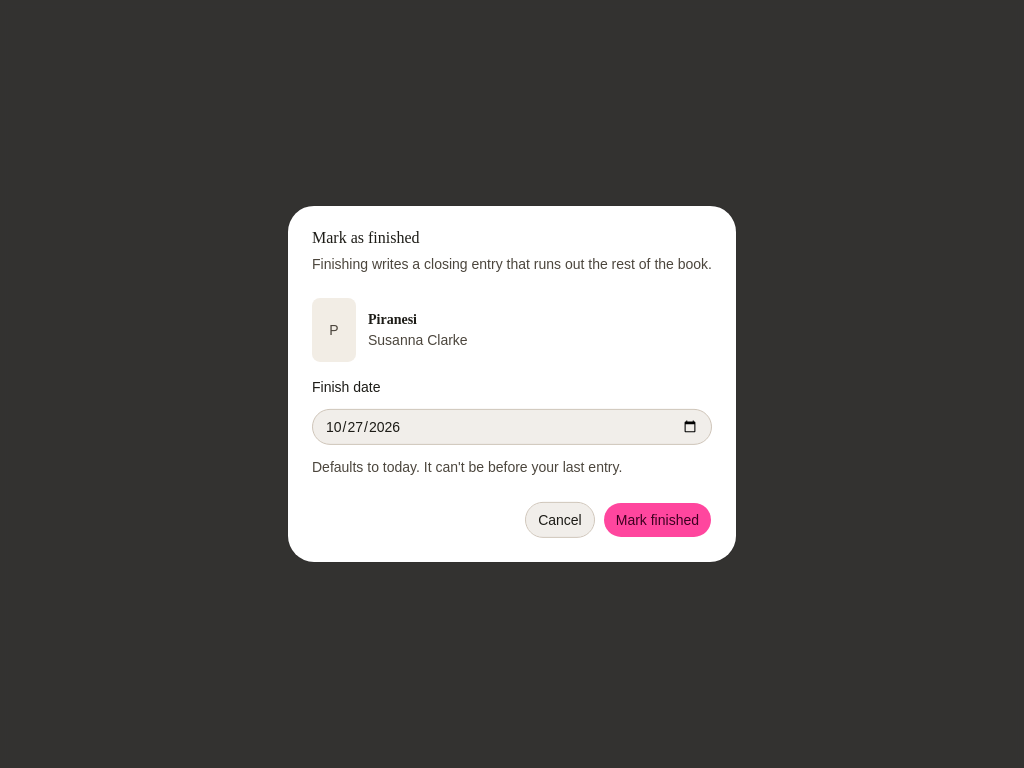
Test: FinishReadSheet › will not finish a date it has no answer for
The width and height of the screenshot is (1024, 768).
Clear the date field labelled "Finish date": (512, 427) [312,409,712,445]
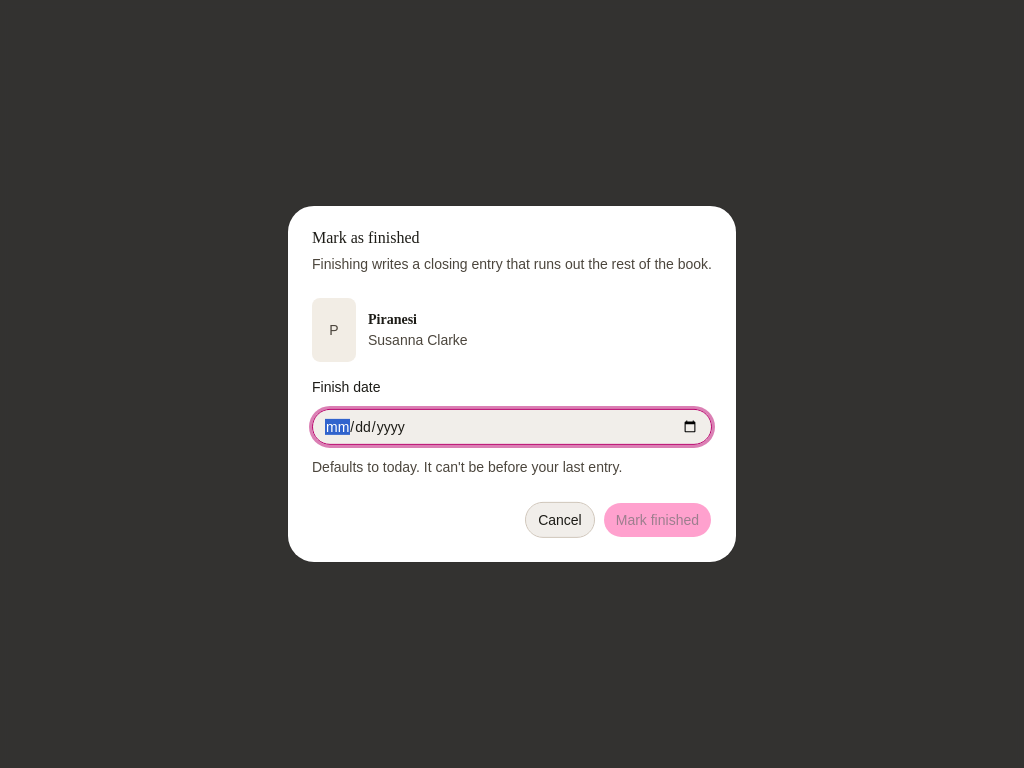
Expected: the button with aria-label "Mark Piranesi as finished" is disabled, [603,502,712,538]
